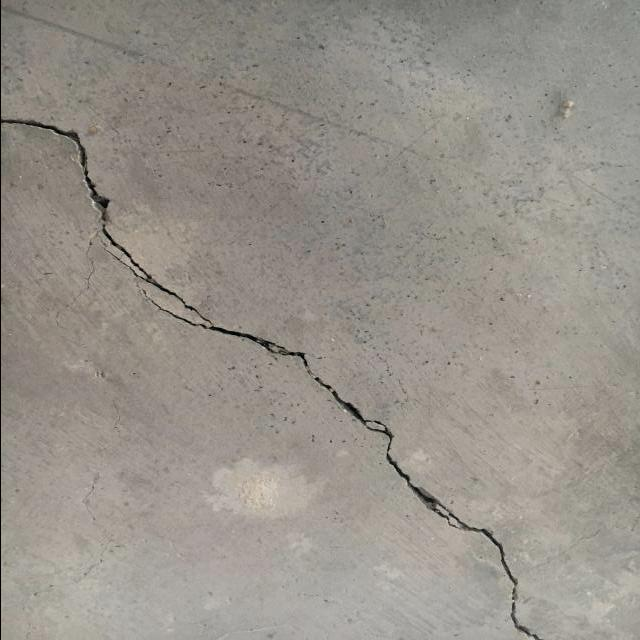SurfaceCrack: (0, 89, 639, 640)
